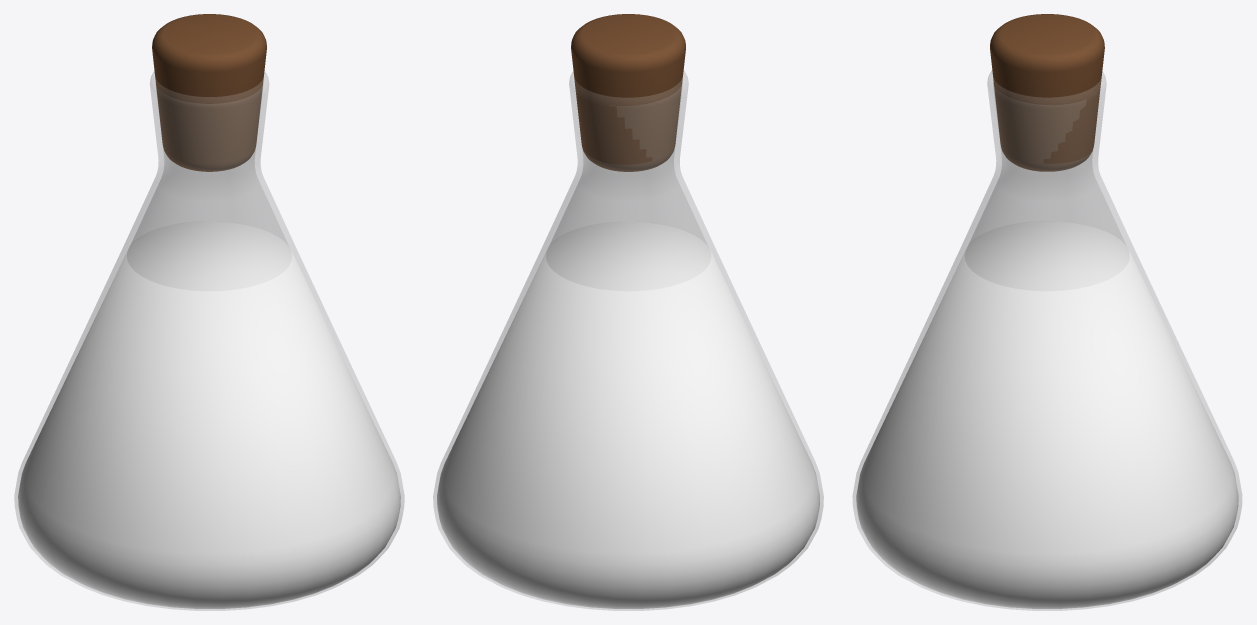
File: Potion_1.fbx
3 views of the same model, side by side, from view 1: azimuth 30°, elevation 25°; view 2: azimuth 150°, elevation 25°; view 3: azimuth 270°, elevation 25° (orthographic).
Visible parts, largest first — view 1: Potion_1; view 2: Potion_1; view 3: Potion_1.
Boxes of the visible parts, bbox=[...] form: Potion_1: bbox=[14, 14, 404, 610]; Potion_1: bbox=[433, 14, 823, 610]; Potion_1: bbox=[852, 14, 1242, 610].
Size of the model in its own units: 63.16 by 91.54 by 63.25.
